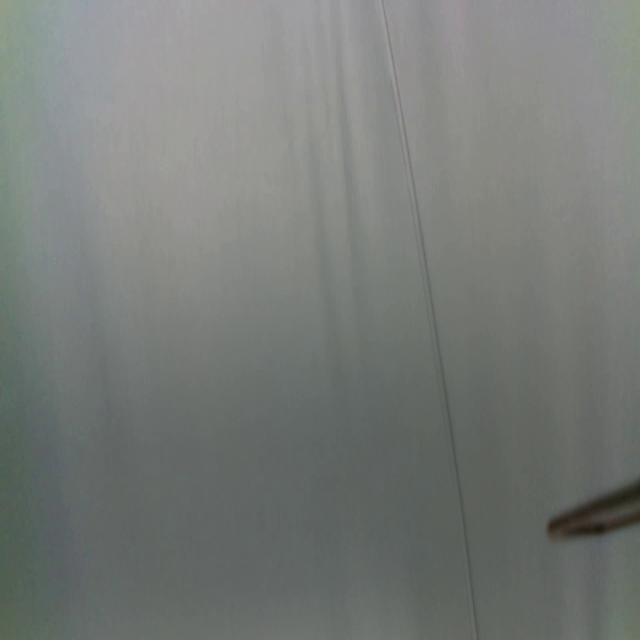crease: (380, 0, 479, 640)
